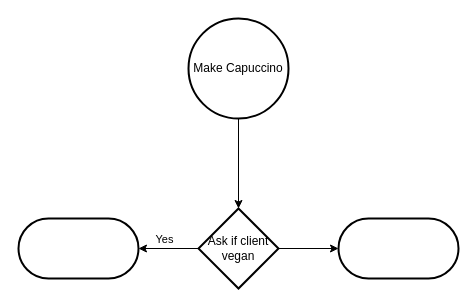
Image size: 476x306. Some labels were removed from this diagram. Each missing label, with the centre of its shape:
"Use Almond Milk" goes at point (78, 248).
"Use Regular MIlk" goes at point (398, 248).
